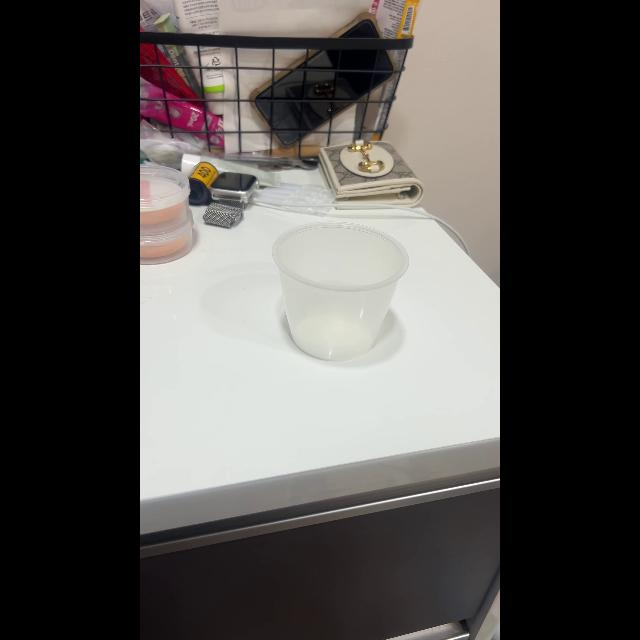clean: (270, 221, 404, 365)
